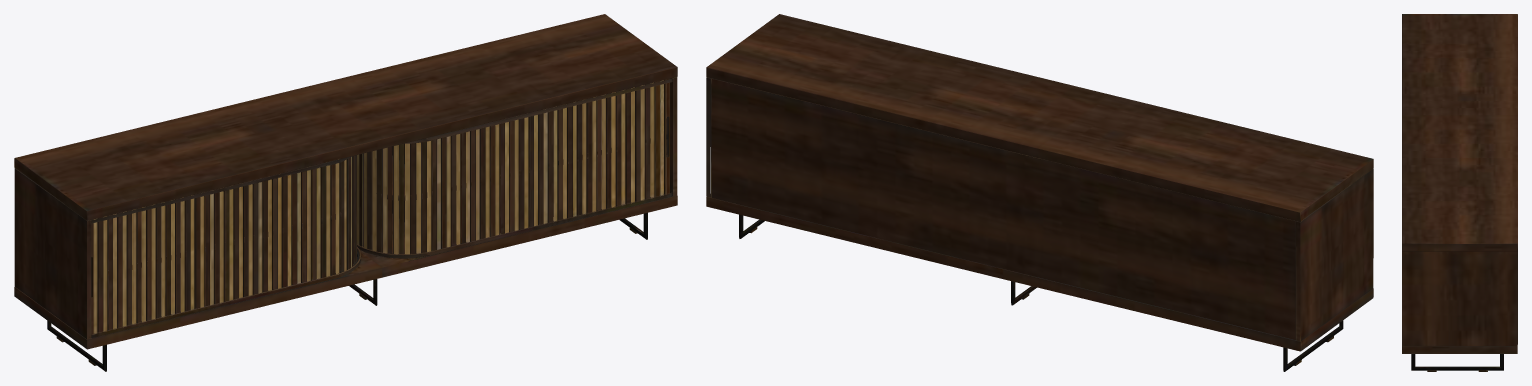
File: modern_wooden_cabinet.glb
The picture shows the model from 3 angles, left to right: view 1: azimuth 30°, elevation 25°; view 2: azimuth 150°, elevation 25°; view 3: azimuth 270°, elevation 25°; orthographic projection. The views are drawn at different scales.
Visible parts, largest first — view 1: modern_wooden_cabinet_body, modern_wooden_cabinet_door_r, modern_wooden_cabinet_door_l; view 2: modern_wooden_cabinet_body; view 3: modern_wooden_cabinet_body.
Part boxes in pixels (left/top/right/bottom): modern_wooden_cabinet_body: left=14, top=14, right=677, bottom=371; modern_wooden_cabinet_door_r: left=357, top=79, right=669, bottom=255; modern_wooden_cabinet_door_l: left=91, top=155, right=356, bottom=336; modern_wooden_cabinet_body: left=706, top=14, right=1373, bottom=371; modern_wooden_cabinet_body: left=1402, top=14, right=1517, bottom=371.
Bounding box in the file's own units: 2.44 × 0.6804 × 0.5204.
1 material, 1 textured.
